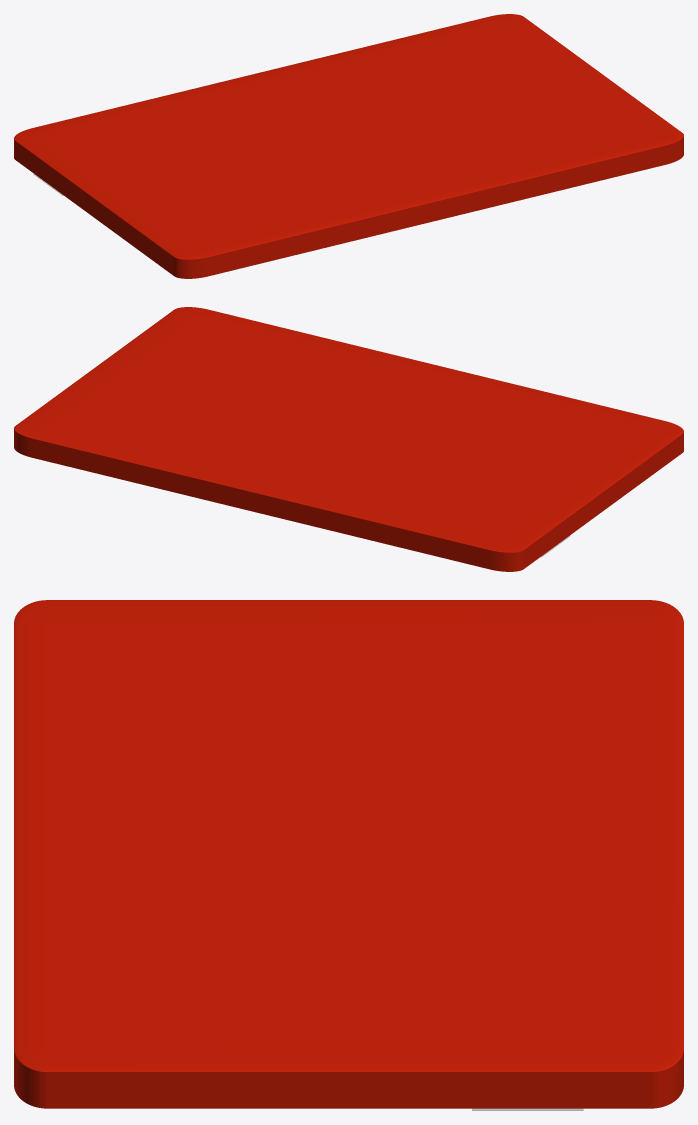
The model's file is card.obj.
3 renders of one model, top to bottom at view 1: azimuth 30°, elevation 25°; view 2: azimuth 150°, elevation 25°; view 3: azimuth 270°, elevation 25°, orthographic. The views are drawn at different scales.
Parts seen in each view (by area): view 1: Cube_Cube.001; view 2: Cube_Cube.001; view 3: Cube_Cube.001.
Boxes of the visible parts, x1,y1,x2,y2 form: Cube_Cube.001: [14, 14, 683, 278]; Cube_Cube.001: [14, 307, 683, 571]; Cube_Cube.001: [14, 600, 683, 1110].
Size of the model in its own units: 5 by 0.2015 by 3.
